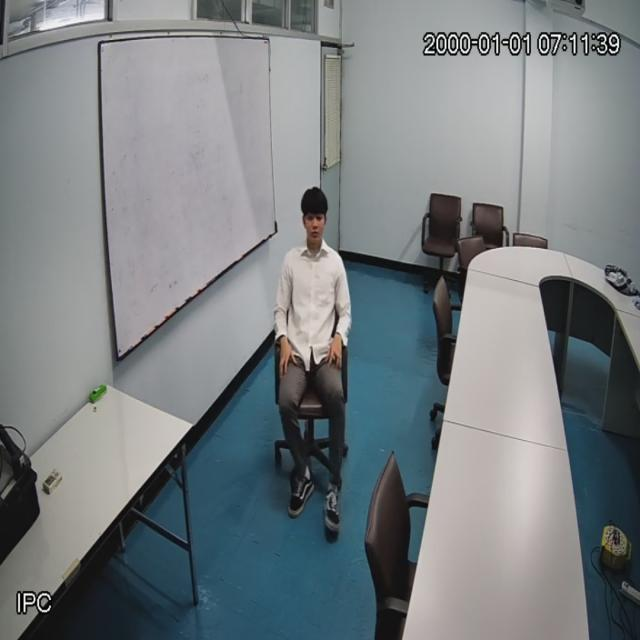normal: (278, 187, 352, 529)
